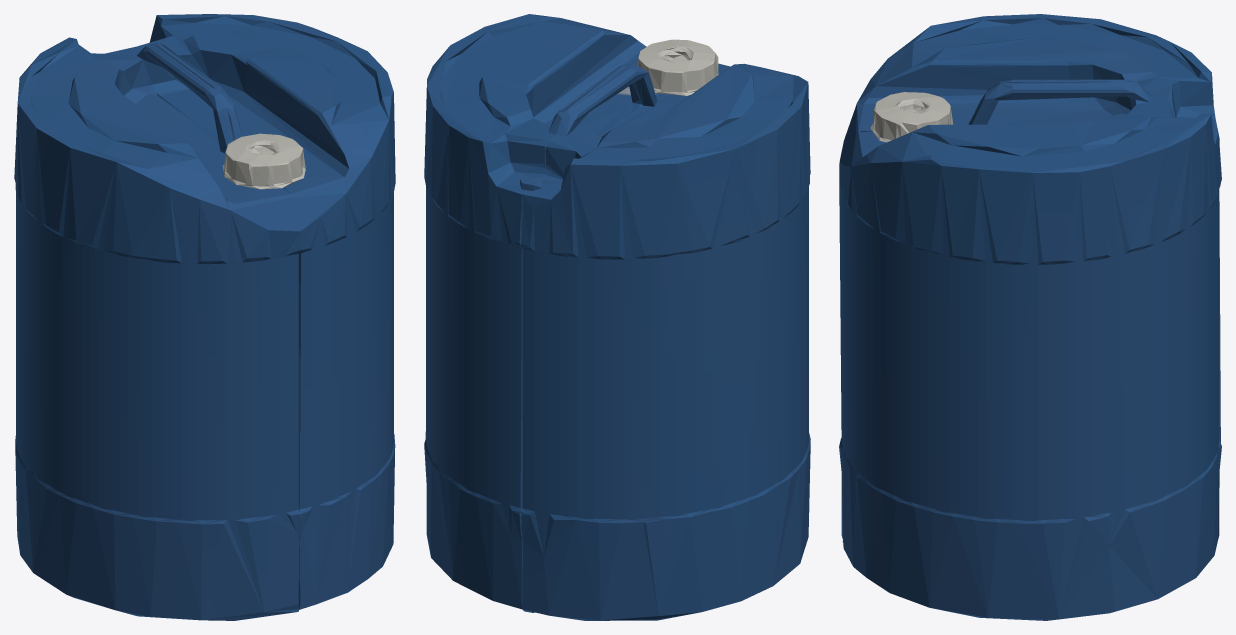
Rendered from barrel.glb.
3 renders of one model, left to right at view 1: azimuth 30°, elevation 25°; view 2: azimuth 150°, elevation 25°; view 3: azimuth 270°, elevation 25°, orthographic.
Parts seen in each view (by area): view 1: geometry_0; view 2: geometry_0; view 3: geometry_0.
Part boxes in pixels (x1=…): geometry_0: x1=14, y1=14, x2=395, y2=620; geometry_0: x1=424, y1=14, x2=810, y2=620; geometry_0: x1=839, y1=14, x2=1221, y2=620.
Bounding box in the file's own units: 0.8384 × 1.15 × 0.8455.
